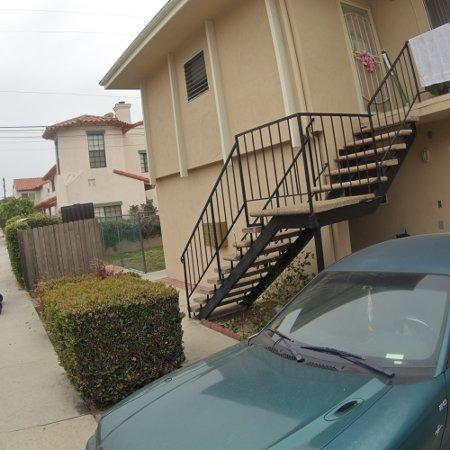stairs: (181, 45, 421, 319)
